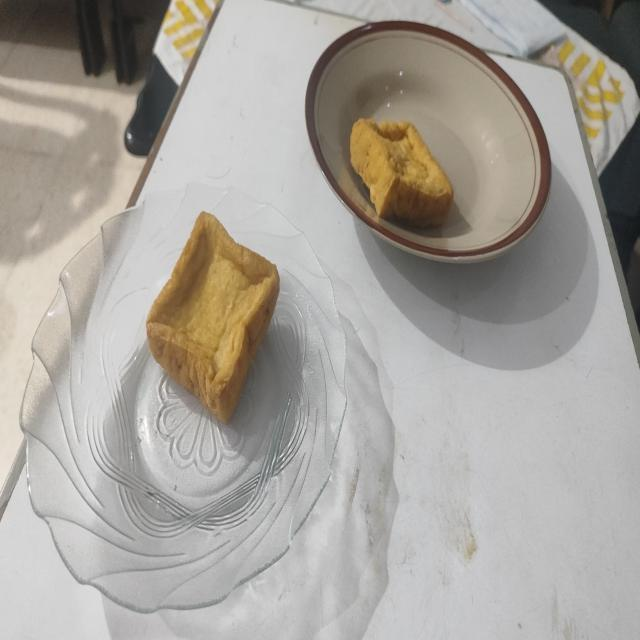tahu_goreng: (146, 212, 280, 422), (350, 118, 453, 228)
